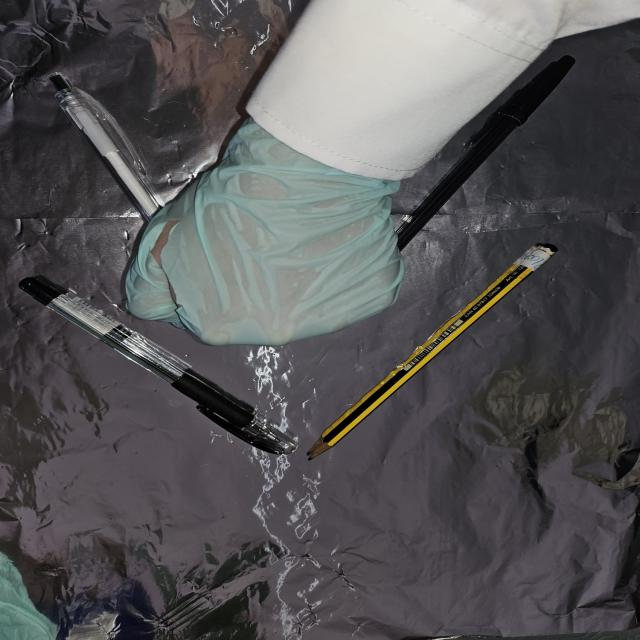gloves_damaged: (120, 115, 408, 341)
